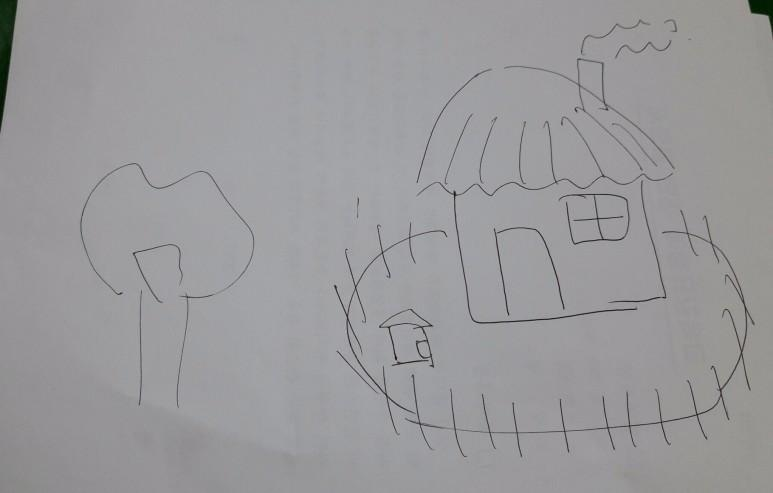chimney: (564, 47, 615, 119)
door: (491, 224, 571, 321)
house: (398, 49, 696, 339)
roof: (408, 61, 685, 213)
wall: (444, 181, 689, 341)
window: (561, 186, 634, 245)
